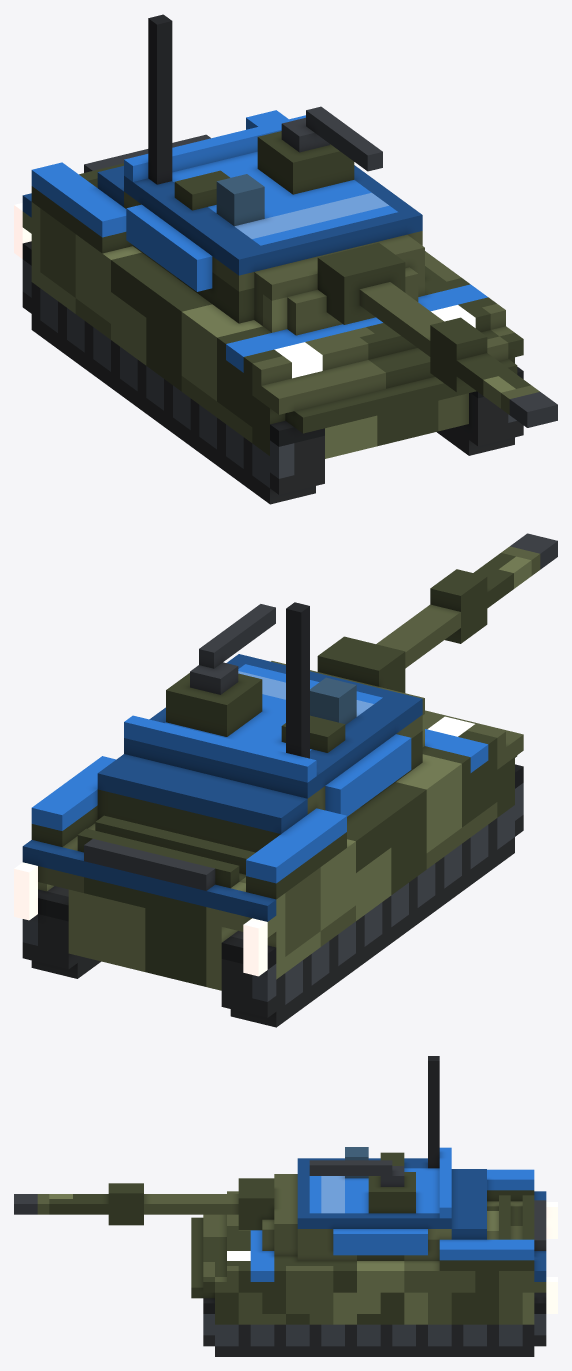
File: cm_tank_1.glb
3 views of the same model, one above another, from view 1: azimuth 30°, elevation 25°; view 2: azimuth 150°, elevation 25°; view 3: azimuth 270°, elevation 25° (orthographic). The views are drawn at different scales.
Parts seen in each view (by area): view 1: cm_tank_1_body; view 2: cm_tank_1_body; view 3: cm_tank_1_body.
Boxes of the visible parts, <box> form: cm_tank_1_body: <box>14,14,557,504</box>; cm_tank_1_body: <box>14,533,557,1027</box>; cm_tank_1_body: <box>14,1056,557,1356</box>.
Size of the model in its own units: 1 by 1.38 by 2.88.
Materials: 1 (1 with a texture image).
